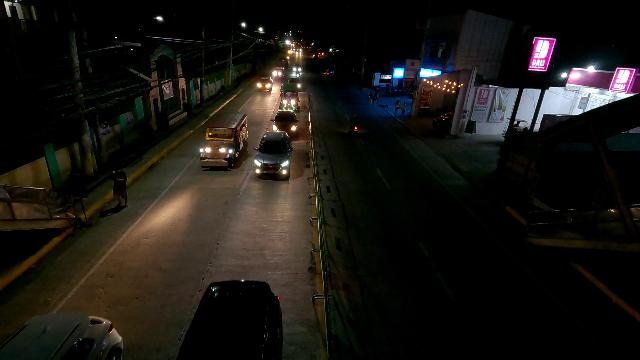car: (254, 131, 295, 181), (270, 110, 300, 137), (256, 76, 274, 93), (286, 78, 301, 91), (291, 63, 303, 73)
jeepney: (198, 112, 249, 171), (278, 83, 301, 112)
motorcycle: (349, 115, 361, 134)
